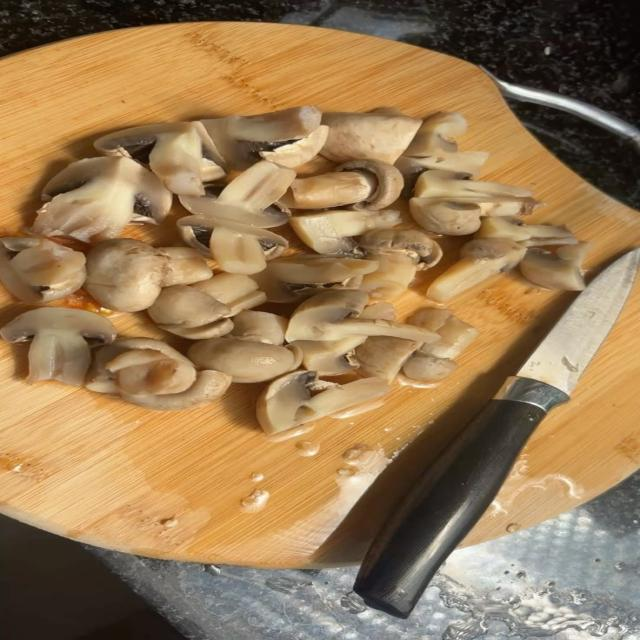champignon mushrooms: (178, 161, 295, 274), (33, 157, 172, 241), (87, 339, 231, 411), (94, 122, 224, 195), (85, 239, 212, 311), (356, 309, 478, 383), (0, 308, 115, 386), (256, 371, 390, 434), (286, 291, 439, 343), (201, 107, 328, 169), (148, 274, 266, 340), (180, 161, 295, 228), (178, 216, 287, 274), (427, 239, 526, 302), (281, 160, 403, 209), (85, 338, 192, 393), (85, 239, 166, 311), (254, 255, 378, 302), (0, 238, 86, 303), (360, 229, 442, 297), (413, 171, 538, 215), (401, 113, 488, 176), (320, 112, 421, 164), (290, 210, 401, 256), (188, 338, 301, 383), (409, 196, 538, 235), (148, 285, 232, 340), (120, 370, 231, 411), (210, 221, 288, 274), (107, 349, 195, 394), (407, 308, 479, 359), (520, 243, 590, 290), (355, 336, 420, 384), (193, 274, 266, 316), (292, 336, 366, 375), (475, 218, 578, 246), (405, 113, 466, 157), (409, 198, 481, 235), (395, 152, 488, 177), (159, 247, 213, 286), (230, 311, 288, 345), (402, 351, 458, 382), (360, 301, 396, 319)
